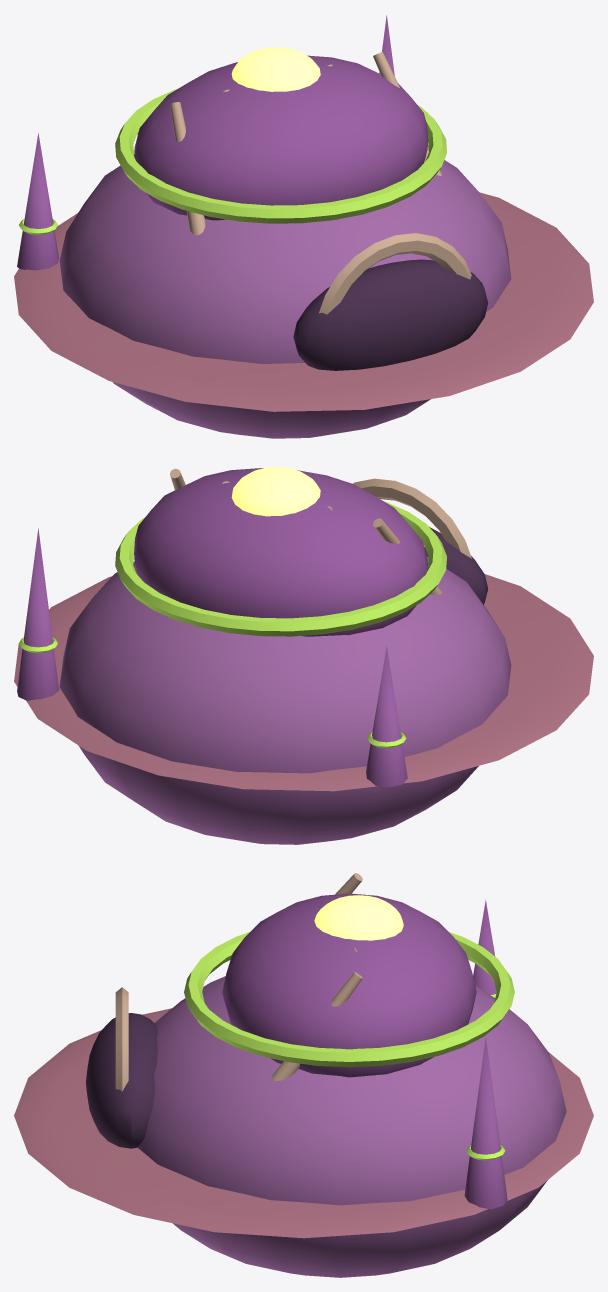
File: factory_ins.glb
3 views of the same model, one above another, from view 1: azimuth 30°, elevation 25°; view 2: azimuth 150°, elevation 25°; view 3: azimuth 270°, elevation 25° (orthographic).
Parts seen in each view (by area): view 1: factory_ins; view 2: factory_ins; view 3: factory_ins.
Boxes of the visible parts, x1=… form: factory_ins: x1=14, y1=15, x2=593, y2=438; factory_ins: x1=14, y1=467, x2=593, y2=844; factory_ins: x1=14, y1=873, x2=593, y2=1277.
Bounding box in the file's own units: 3.19 × 2.1 × 3.19.
